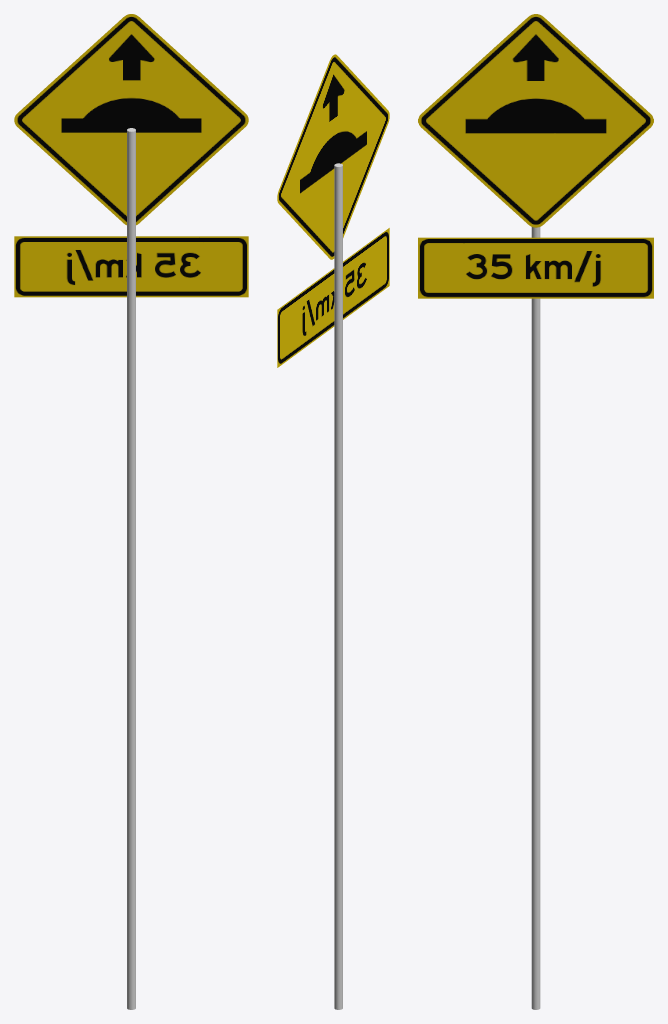
The model's file is bonggol.fbx.
3 renders of one model, left to right at view 1: azimuth 90°, elevation 25°; view 2: azimuth 150°, elevation 25°; view 3: azimuth 270°, elevation 25°, orthographic. The views are drawn at different scales.
Parts seen in each view (by area): view 1: bonggol, Cylinder; view 2: bonggol, Cylinder; view 3: bonggol, Cylinder.
Part boxes in pixels (x1,y1,x2,y2): bonggol: [14, 14, 248, 297]; Cylinder: [127, 128, 135, 1009]; bonggol: [277, 54, 389, 367]; Cylinder: [334, 163, 342, 1009]; bonggol: [418, 14, 653, 298]; Cylinder: [531, 227, 540, 1009].
Size of the model in its own units: 3.43 by 350 by 75.
